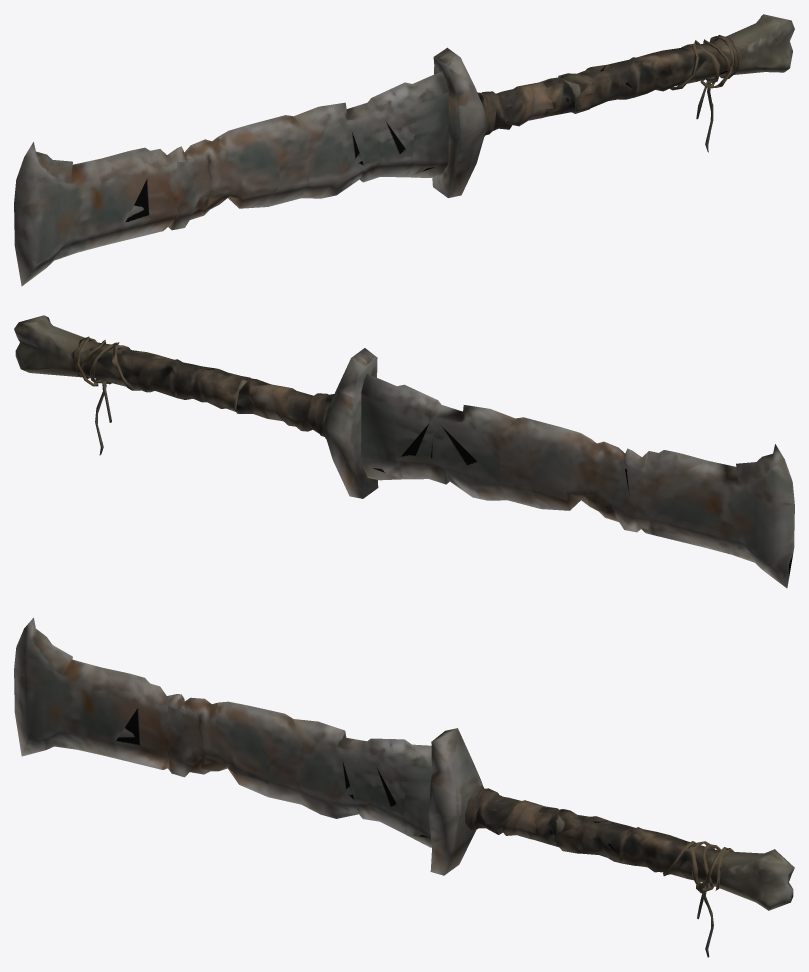
File: KolossEspada1.glb
The picture shows the model from 3 angles, top to bottom: view 1: azimuth 30°, elevation 25°; view 2: azimuth 150°, elevation 25°; view 3: azimuth 330°, elevation 25°; orthographic projection.
Parts seen in each view (by area): view 1: KolossEspada1; view 2: KolossEspada1; view 3: KolossEspada1.
Boxes of the visible parts, bbox=[...] form: KolossEspada1: bbox=[14, 14, 794, 286]; KolossEspada1: bbox=[14, 315, 794, 588]; KolossEspada1: bbox=[14, 617, 794, 957].
Size of the model in its own units: 2.6 by 0.562 by 0.1752.
1 material, 1 textured.
